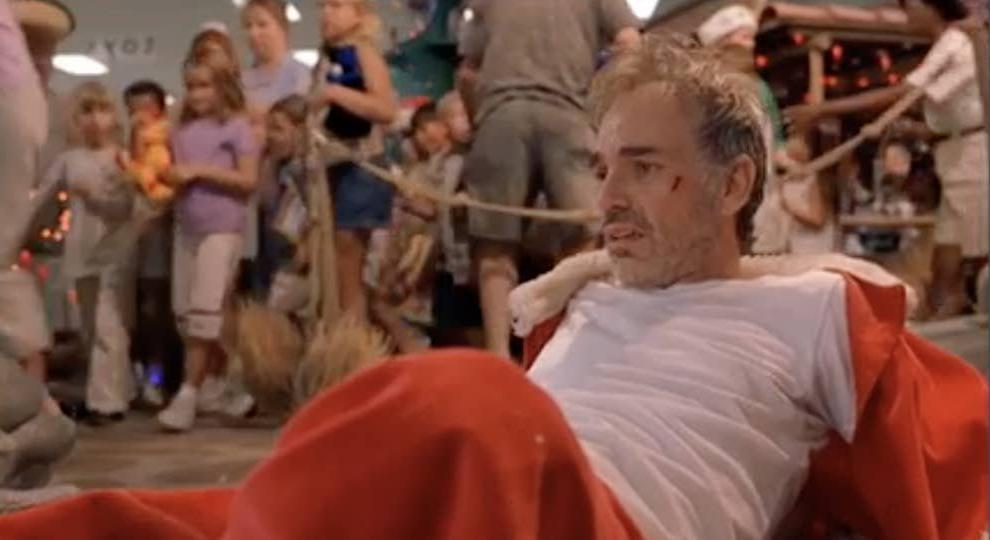Drunk: (595, 109, 702, 278)
